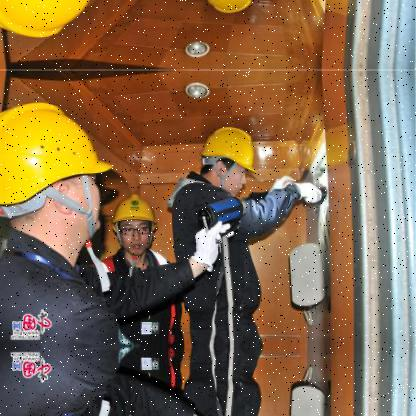helmet: (2, 93, 117, 263), (2, 0, 118, 44), (198, 121, 263, 196), (110, 187, 161, 254), (198, 0, 264, 16)
